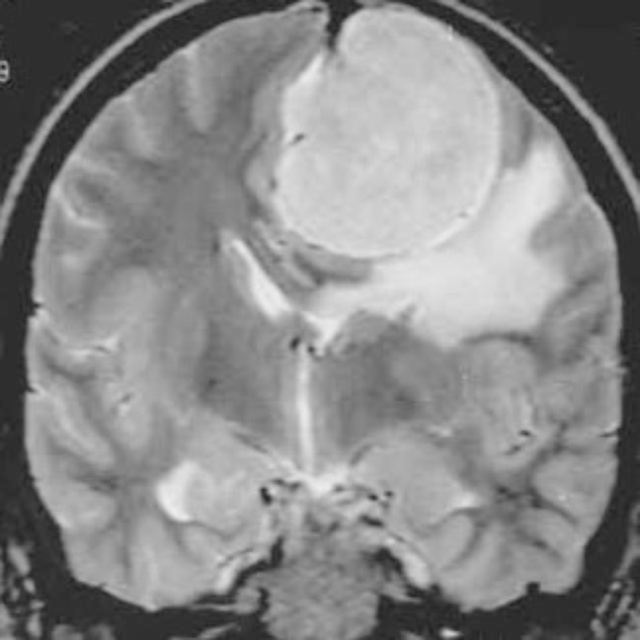meningioma tumor: (262, 7, 510, 275)
